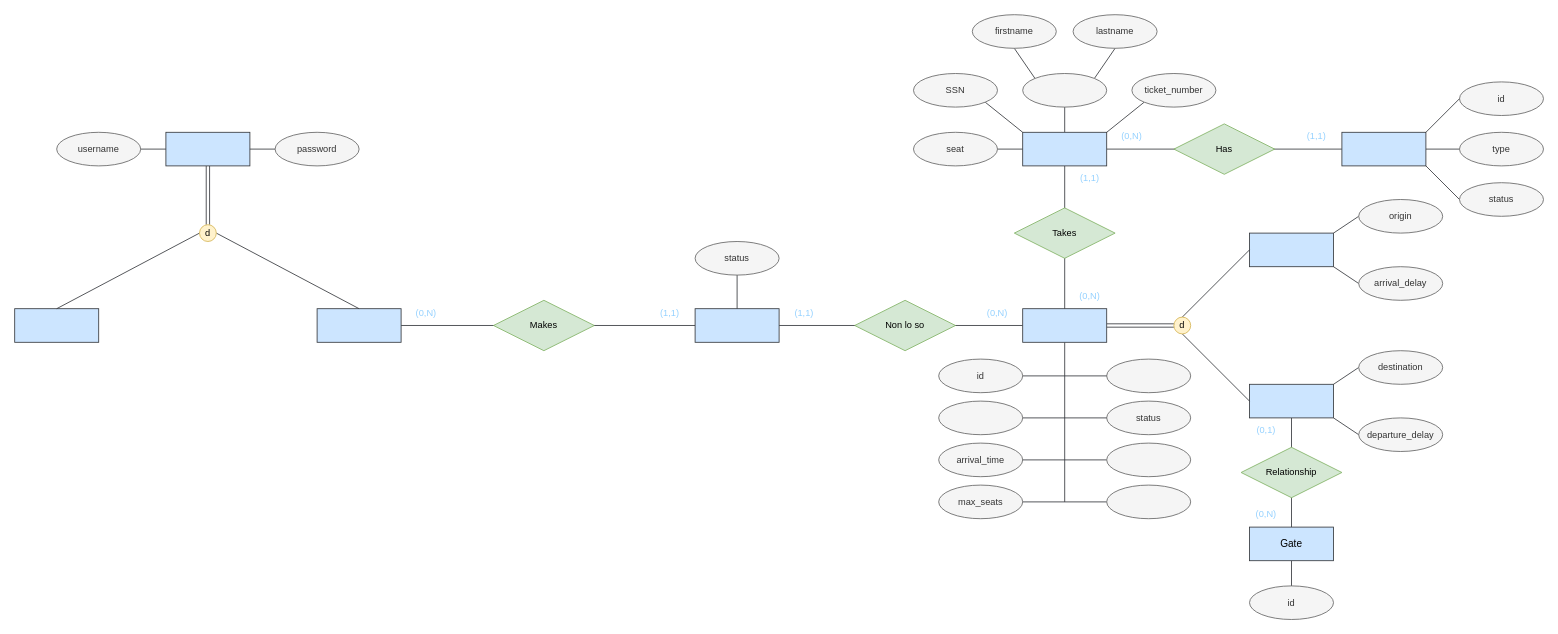
This 1558x634 diagram has some shape labels left out. The centre of each missing label's shape, as x and y in pixels:
Admin: the point at 56,325
Arriving: the point at 1291,249
Booking: the point at 736,325
company_name: the point at 1148,375
Customer: the point at 358,325
date: the point at 980,417
Departing: the point at 1291,400
departure_time: the point at 1148,459
Flight: the point at 1064,325
free_seats: the point at 1148,501
Luggage: the point at 1383,148
name: the point at 1064,90
Passenger: the point at 1064,148
User: the point at 207,148
